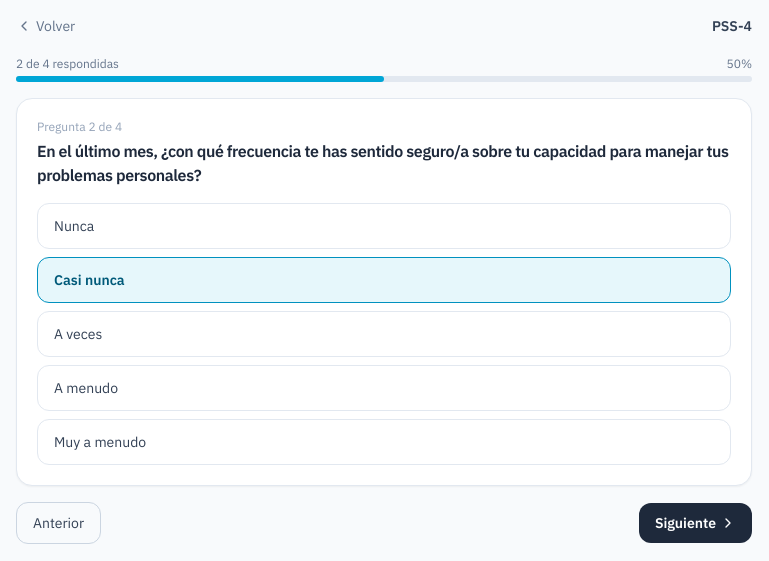
Test: MhAssessmentRunPage (flujo responder → preview → completar → resultado) › flujo completo: responder → preview → confirmar → resultado persistido (reload a través de detail)
Earlier steps of the test are not shown.
Click the button "Siguiente" at (695, 523), box 639,503 -> 752,543
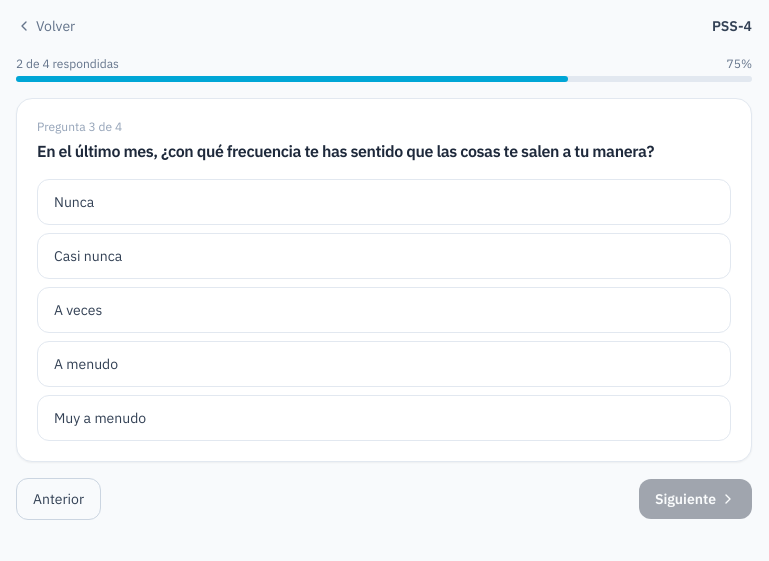
Expected: the text "Pregunta 3 de 4" is shown, 37,119 -> 122,134
Click the button "A veces" at (78, 310), box 37,287 -> 731,333
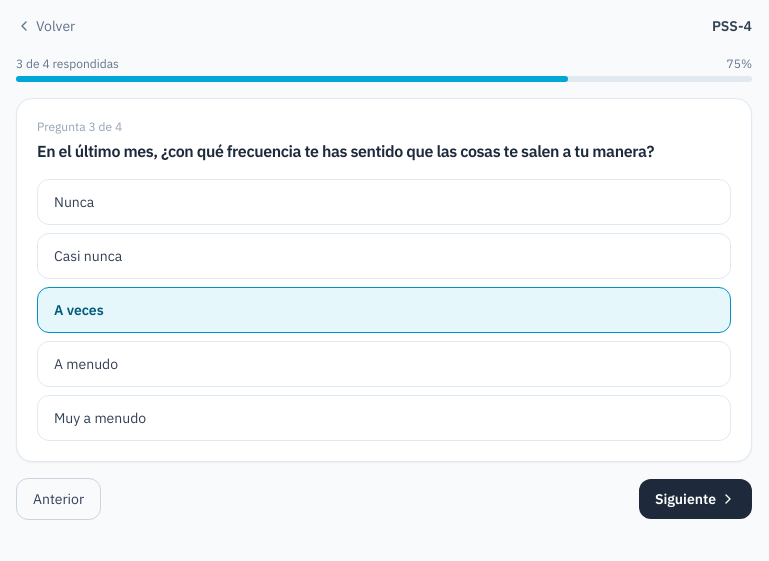
Click the button "Siguiente" at (695, 499), box 639,479 -> 752,519
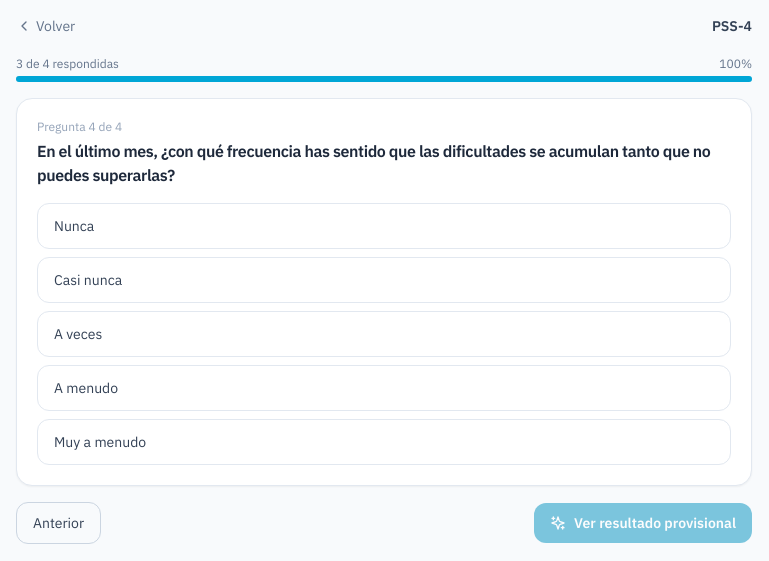
Expected: the text "Pregunta 4 de 4" is shown, 37,119 -> 122,134
Click the button "Muy a menudo" at (100, 442), box 37,419 -> 731,465
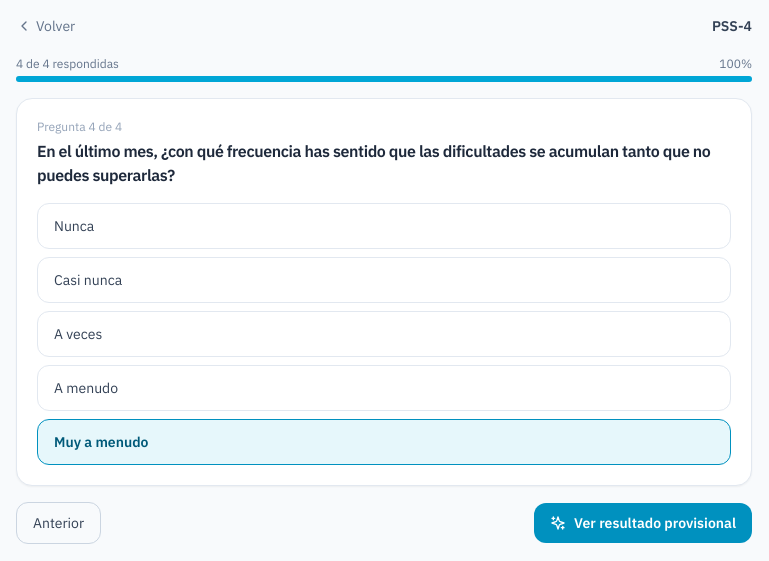
Click the button with test id "wb-preview-btn" at (643, 523), box 534,503 -> 752,543
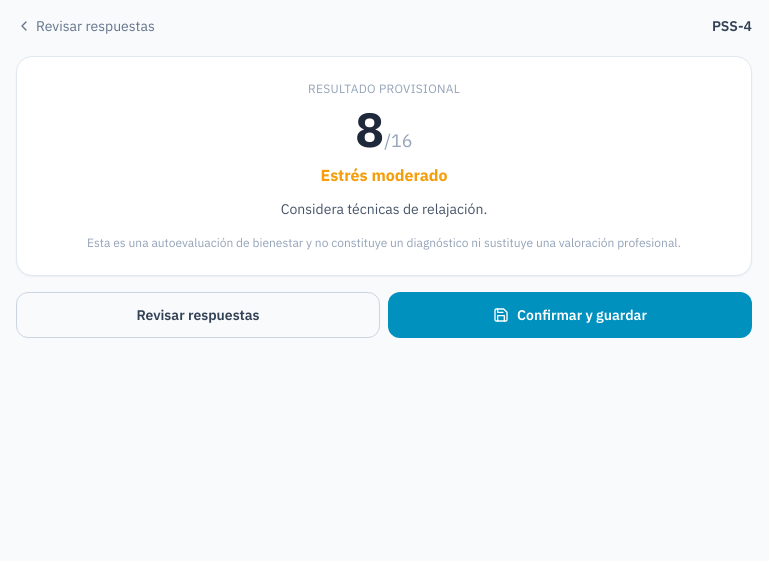
Expected: the element with test id "wb-preview" is shown, 16,56 -> 752,338
Expected: the text "Resultado provisional" is shown, 308,81 -> 460,96
Expected: the text "8" is shown, 355,98 -> 384,160
Click the button with test id "wb-confirm" at (570, 315), box 388,292 -> 752,338
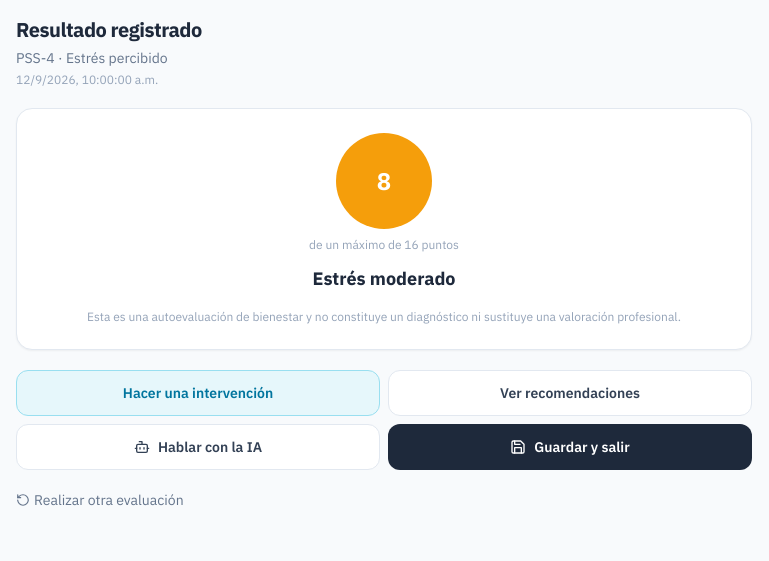
Expected: the element with test id "wb-result" is shown
Expected: the heading "Resultado registrado" is shown, 16,16 -> 202,43
Expected: the text "Estrés moderado" is shown, 312,267 -> 456,290
